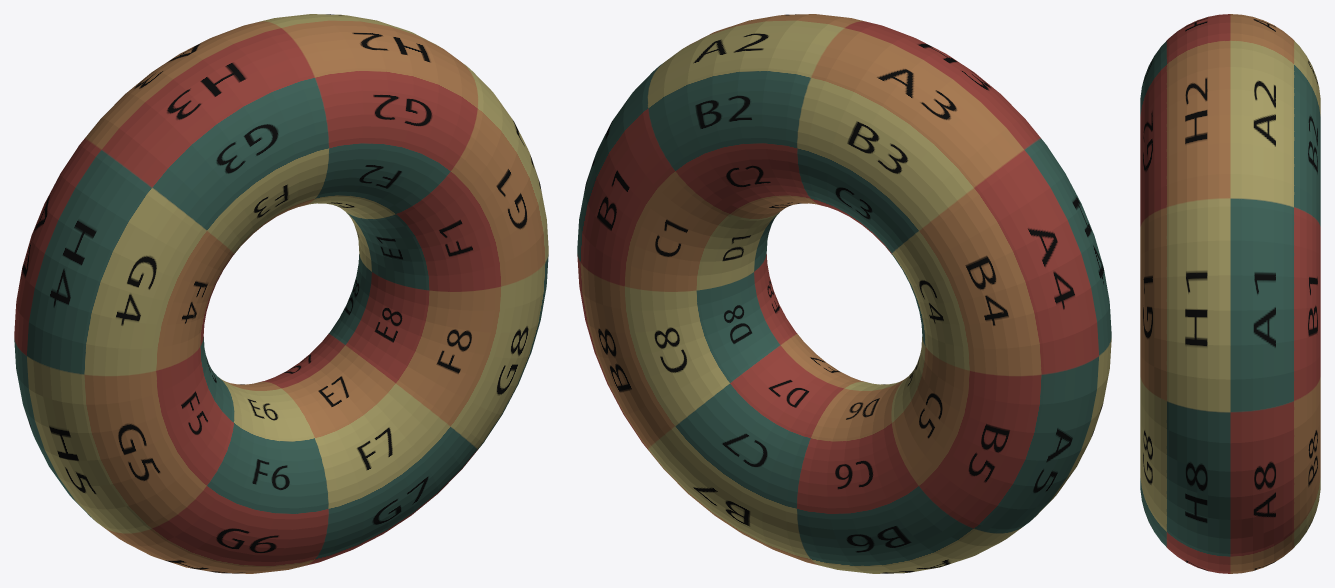
The model's file is texture_torus_R14_r27.glb.
The picture shows the model from 3 angles, left to right: view 1: azimuth 30°, elevation 25°; view 2: azimuth 150°, elevation 25°; view 3: azimuth 270°, elevation 25°; orthographic projection. The views are drawn at different scales.
Parts seen in each view (by area): view 1: world; view 2: world; view 3: world.
Part boxes in pixels (x1,y1,x2,y2): world: (14,14,548,573); world: (577,14,1111,573); world: (1140,14,1320,573).
Bounding box in the file's own units: 28.53 × 28.48 × 9.18.
1 material, 1 textured.
